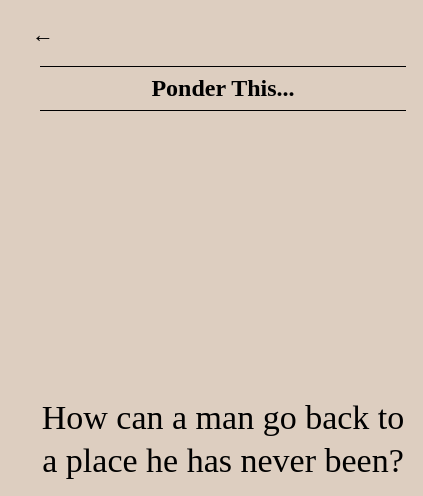
the other screens › reaches the riddle with the back button and comes back
This screenshot has width=423, height=496.
Expected: the heading "Ponder This..." is shown, [151,75,295,102]
Click the button named "Back".
click(43, 35)  # box [16,8,70,62]
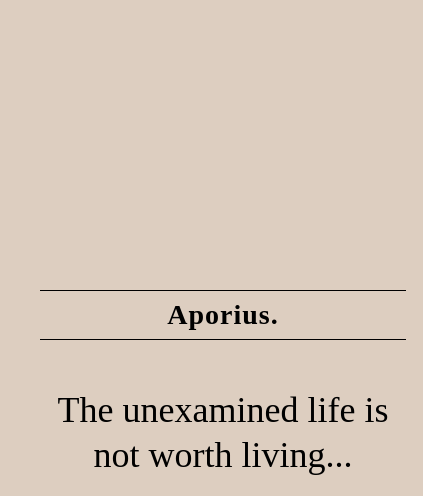
Now the heading "Aporius." is shown, box [167,299,279,331]
